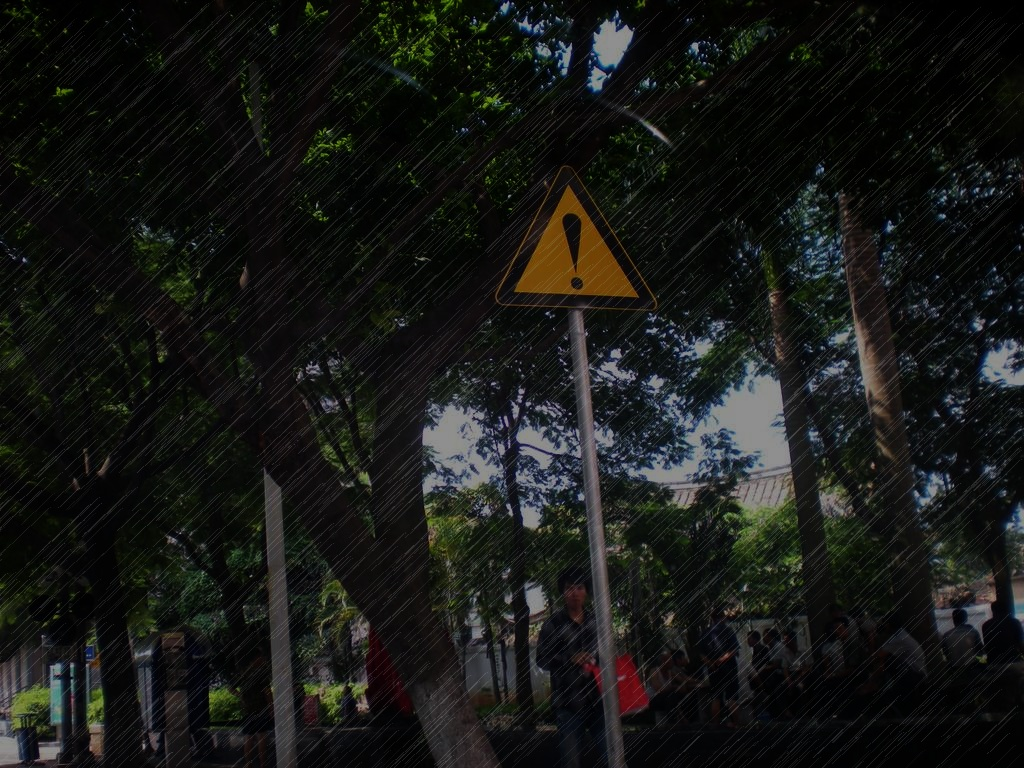Warning Signs: (490, 162, 659, 315)
